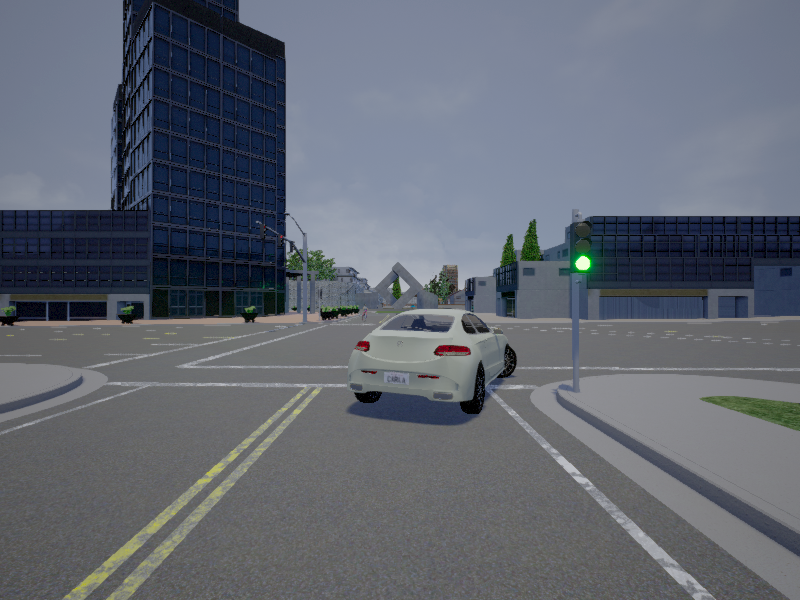Benign: (351, 308, 518, 420)
